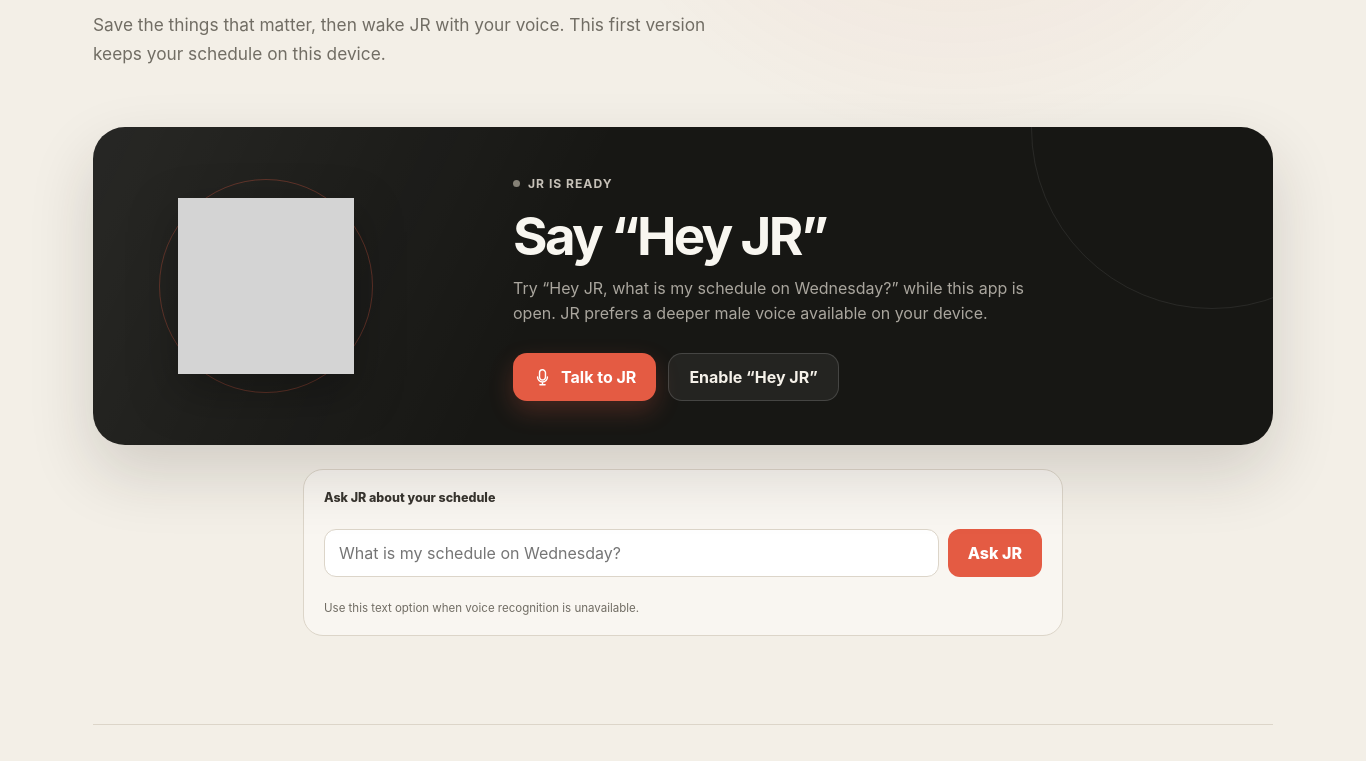
Test: JR schedule MVP › stops recognition when wake listening is turned off
(page scrolled)
Step 1. Click the button "Enable “Hey JR”" → (754, 377), box top-left (668, 353), bottom-right (839, 401)
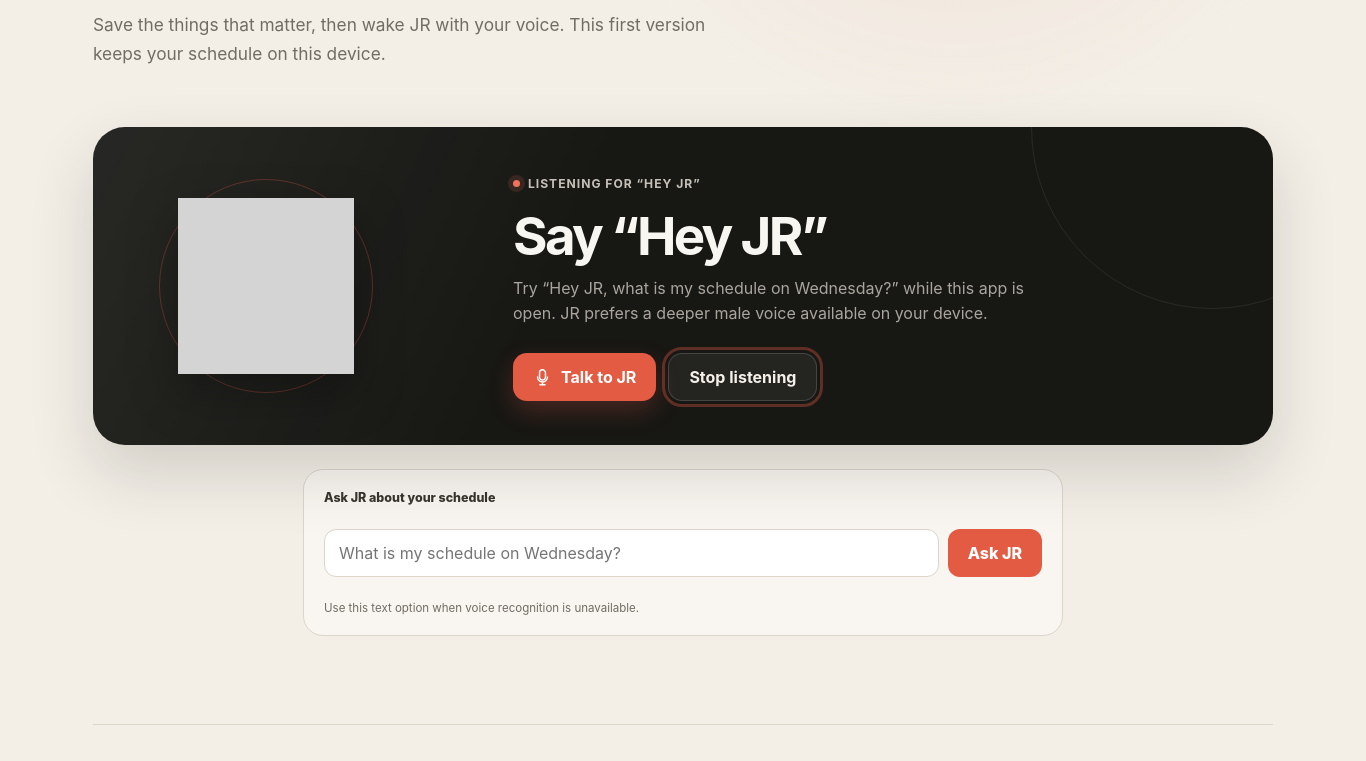
Now the text "Listening for “Hey JR”" is shown, box top-left (513, 176), bottom-right (701, 191)
Step 2. Click the button "Stop listening" → (743, 377), box top-left (668, 353), bottom-right (818, 401)
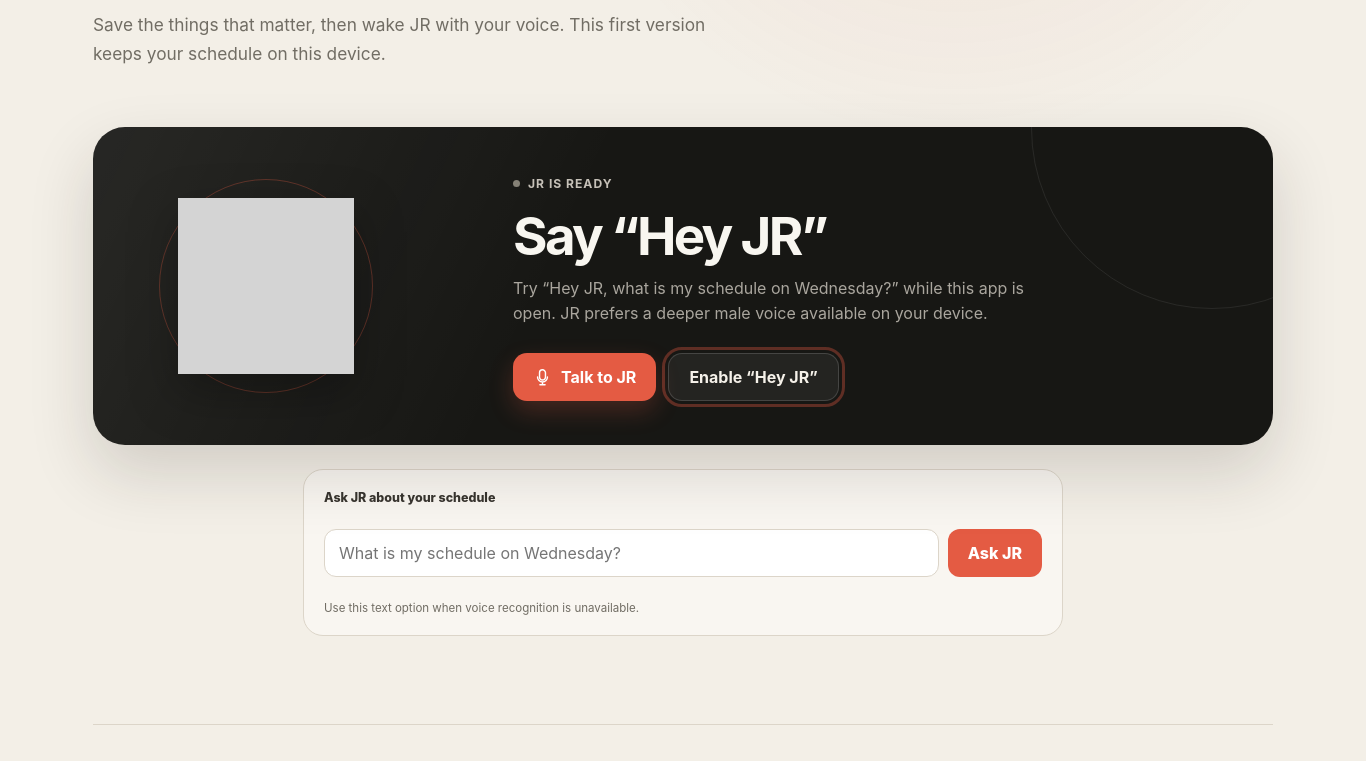
Now the text "Listening for “Hey JR”" is gone
